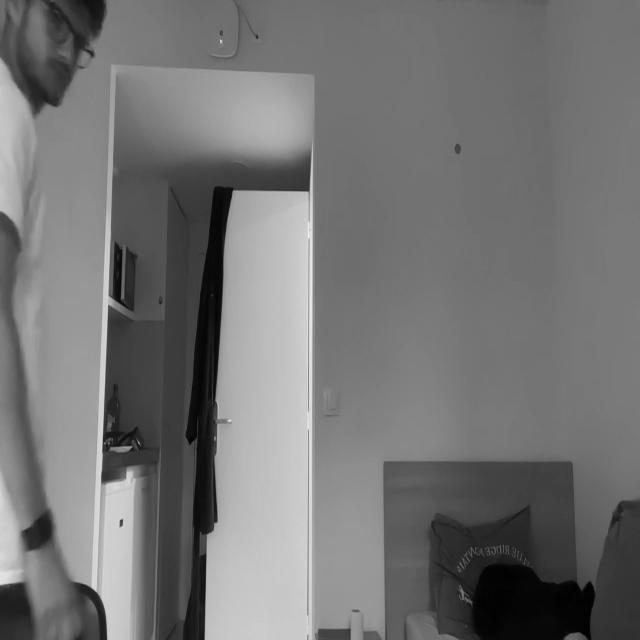hand: (27, 533, 83, 640)
shoulder: (0, 76, 33, 193)
